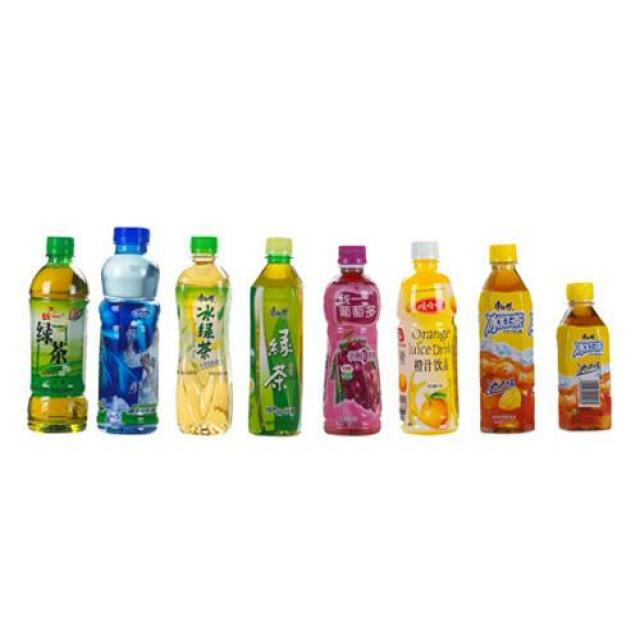plastic_bottle: (466, 235, 548, 445), (88, 222, 165, 439), (391, 235, 465, 445), (247, 228, 318, 442), (27, 233, 95, 445), (318, 247, 388, 446), (548, 270, 619, 449), (175, 223, 230, 448)
